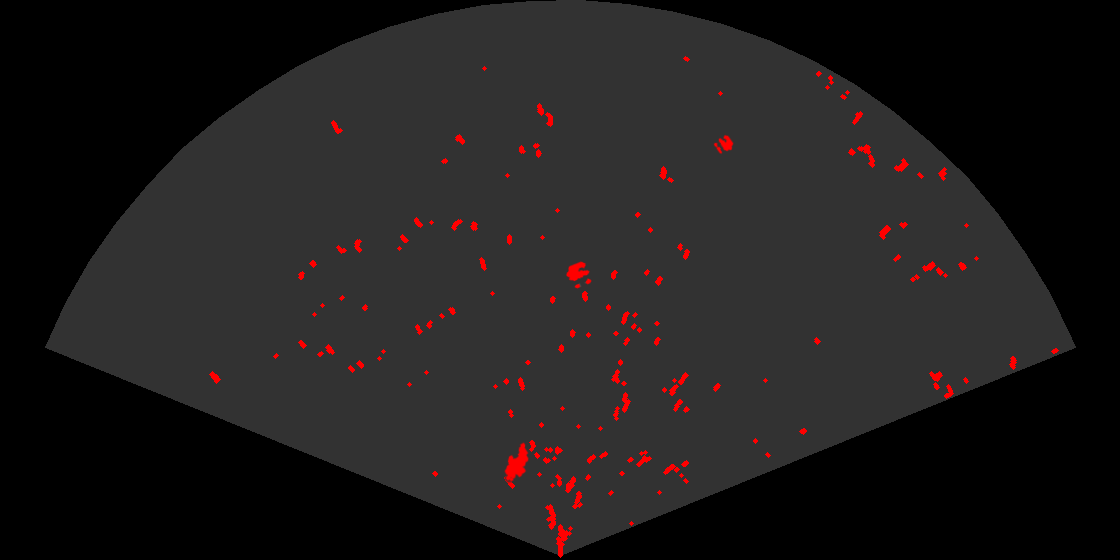AUV: (503, 441, 531, 483)
ball: (565, 260, 593, 290), (712, 133, 735, 156)
